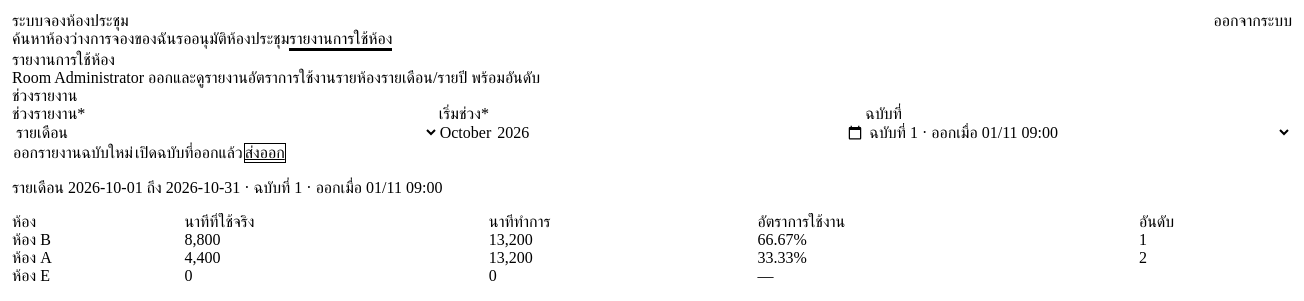
Test: FE-mrr-016 utilization report page (RPT-mrr-001) › AC-mrr-045 ออกรายงานฉบับใหม่ posts API-028, says ออกรายงานฉบับใหม่แล้ว ฉบับเดิมยังเก็บไว้ and shows issue 2
Click the button with test id "rpt-mrr-001-issue".
click(73, 153)  # box left=12, top=143, right=134, bottom=163
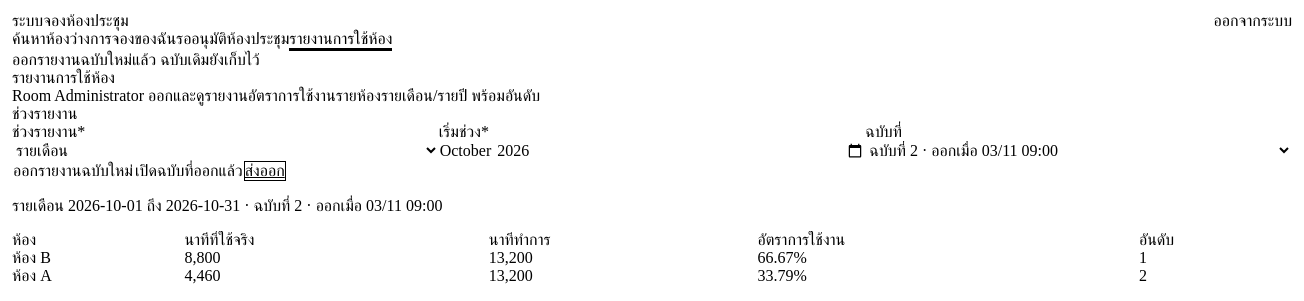
Expected: the message reads "ออกรายงานฉบับใหม่แล้ว ฉบับเดิมยังเก็บไว้", left=12, top=51, right=260, bottom=68
Expected: the dropdown with test id "rpt-mrr-001-ent-012-issue-no" shows "ฉบับที่ 2 · ออกเมื่อ 03/11 09:00", left=865, top=141, right=1292, bottom=160
